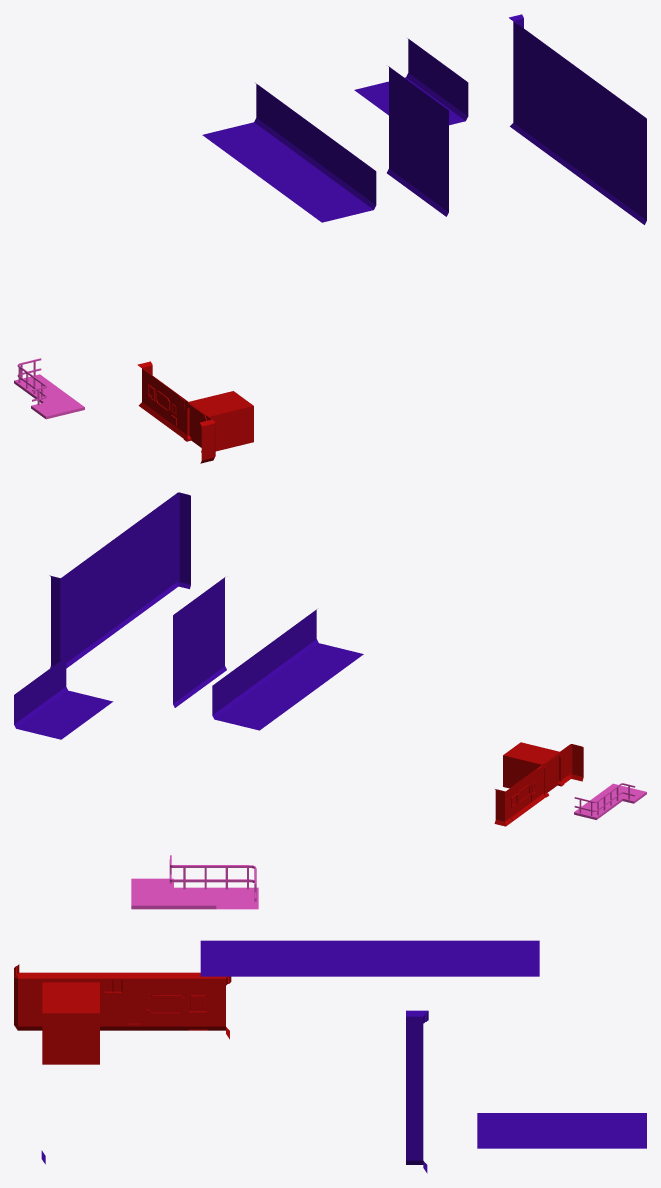
Rendered from Assets2.0.fbx.
3 views of the same model, one above another, from view 1: azimuth 30°, elevation 25°; view 2: azimuth 150°, elevation 25°; view 3: azimuth 270°, elevation 25° (orthographic). The views are drawn at different scales.
Visible parts, largest first — view 1: polySurface7258pasted__pCube121, polySurface7258pasted__pCube122, pasted__pCube193, pasted__polySurface7258pasted__pCube114, pasted__pasted__polySurface24951, pasted__polySurface7258pasted__pCube113, pCube223, polySurface24992, polySurface7258pasted__pCube128, pasted__pCube194, pasted__polySurface24941, pasted__polySurface7258pasted__pCube98; view 2: polySurface7258pasted__pCube121, polySurface7258pasted__pCube122, pasted__pCube193, pasted__polySurface7258pasted__pCube114, pasted__pCube194, polySurface7258pasted__pCube128, pasted__polySurface7258pasted__pCube113, pasted__pasted__polySurface24951, polySurface24992, pasted__polySurface7258pasted__pCube98, pCube223, pasted__polySurface24961 (+2 smaller); view 3: pasted__pCube193, pasted__pCube194, pasted__pasted__polySurface24951, polySurface24992, pasted__polySurface24941, pCube223, pasted__polySurface7258pasted__pCube98, pCube232, pasted__polySurface24961, pCube215, pasted__polySurface24924, pasted__polySurface24944.
Boxes of the visible parts, box(x1,y1,x2,y2) form: polySurface7258pasted__pCube121: box(517, 25, 639, 219); polySurface7258pasted__pCube122: box(387, 66, 448, 216); pasted__pCube193: box(202, 122, 373, 222); pasted__polySurface7258pasted__pCube114: box(254, 83, 376, 209); pasted__pasted__polySurface24951: box(183, 391, 253, 452); pasted__polySurface7258pasted__pCube113: box(406, 38, 468, 120); pCube223: box(31, 380, 84, 419); polySurface24992: box(509, 14, 523, 131); polySurface7258pasted__pCube128: box(637, 113, 646, 224); pasted__pCube194: box(354, 77, 465, 125); pasted__polySurface24941: box(153, 376, 170, 427); pasted__polySurface7258pasted__pCube98: box(200, 415, 215, 463); polySurface7258pasted__pCube121: box(65, 498, 171, 667); polySurface7258pasted__pCube122: box(173, 577, 226, 707); pasted__pCube193: box(215, 643, 363, 730); pasted__polySurface7258pasted__pCube114: box(212, 609, 318, 719); pasted__pCube194: box(16, 690, 113, 739); polySurface7258pasted__pCube128: box(170, 492, 190, 590); pasted__polySurface7258pasted__pCube113: box(14, 656, 67, 728); pasted__pasted__polySurface24951: box(503, 742, 564, 797); polySurface24992: box(49, 574, 67, 668); pasted__polySurface7258pasted__pCube98: box(562, 744, 583, 783); pCube223: box(594, 783, 646, 805); pasted__polySurface24961: box(494, 787, 512, 826); pasted__pCube193: box(200, 940, 539, 976); pasted__pCube194: box(477, 1113, 646, 1148); pasted__pasted__polySurface24951: box(39, 972, 102, 1064); polySurface24992: box(406, 1010, 428, 1173); pasted__polySurface24941: box(145, 972, 187, 1030); pCube223: box(131, 855, 194, 909); pasted__polySurface7258pasted__pCube98: box(14, 964, 38, 1030); pCube232: box(216, 865, 258, 909); pasted__polySurface24961: box(208, 976, 231, 1039); pCube215: box(195, 865, 216, 909); pasted__polySurface24924: box(102, 972, 123, 993); pasted__polySurface24944: box(124, 972, 144, 993).
Bounding box in the file's own units: 44.76 × 16.86 × 29.85.
